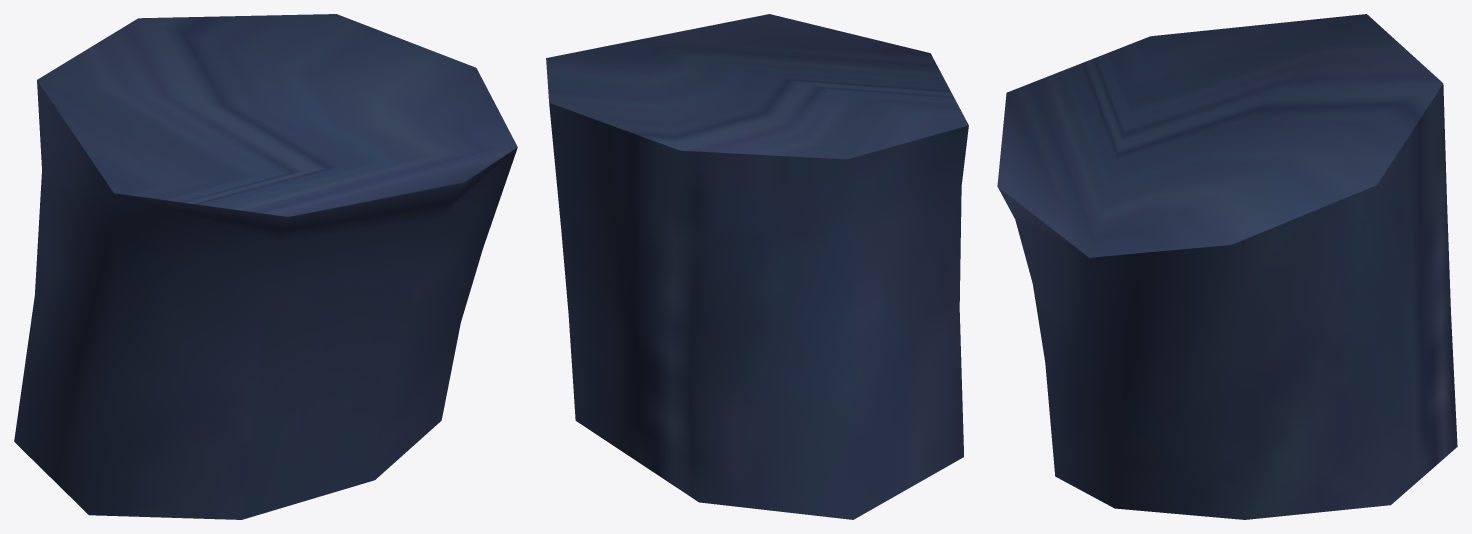
The model's file is pierna_izq.obj.
The picture shows the model from 3 angles, left to right: view 1: azimuth 30°, elevation 25°; view 2: azimuth 150°, elevation 25°; view 3: azimuth 270°, elevation 25°; orthographic projection. The views are drawn at different scales.
Visible parts, largest first — view 1: Material_#95.004; view 2: Material_#95.004; view 3: Material_#95.004.
Part boxes in pixels (x1,y1,x2,y2): Material_#95.004: [14, 14, 517, 519]; Material_#95.004: [546, 14, 968, 519]; Material_#95.004: [997, 14, 1457, 519].
Bounding box in the file's own units: 0.8527 × 0.7267 × 0.7761.
Materials: 1 (1 with a texture image).
